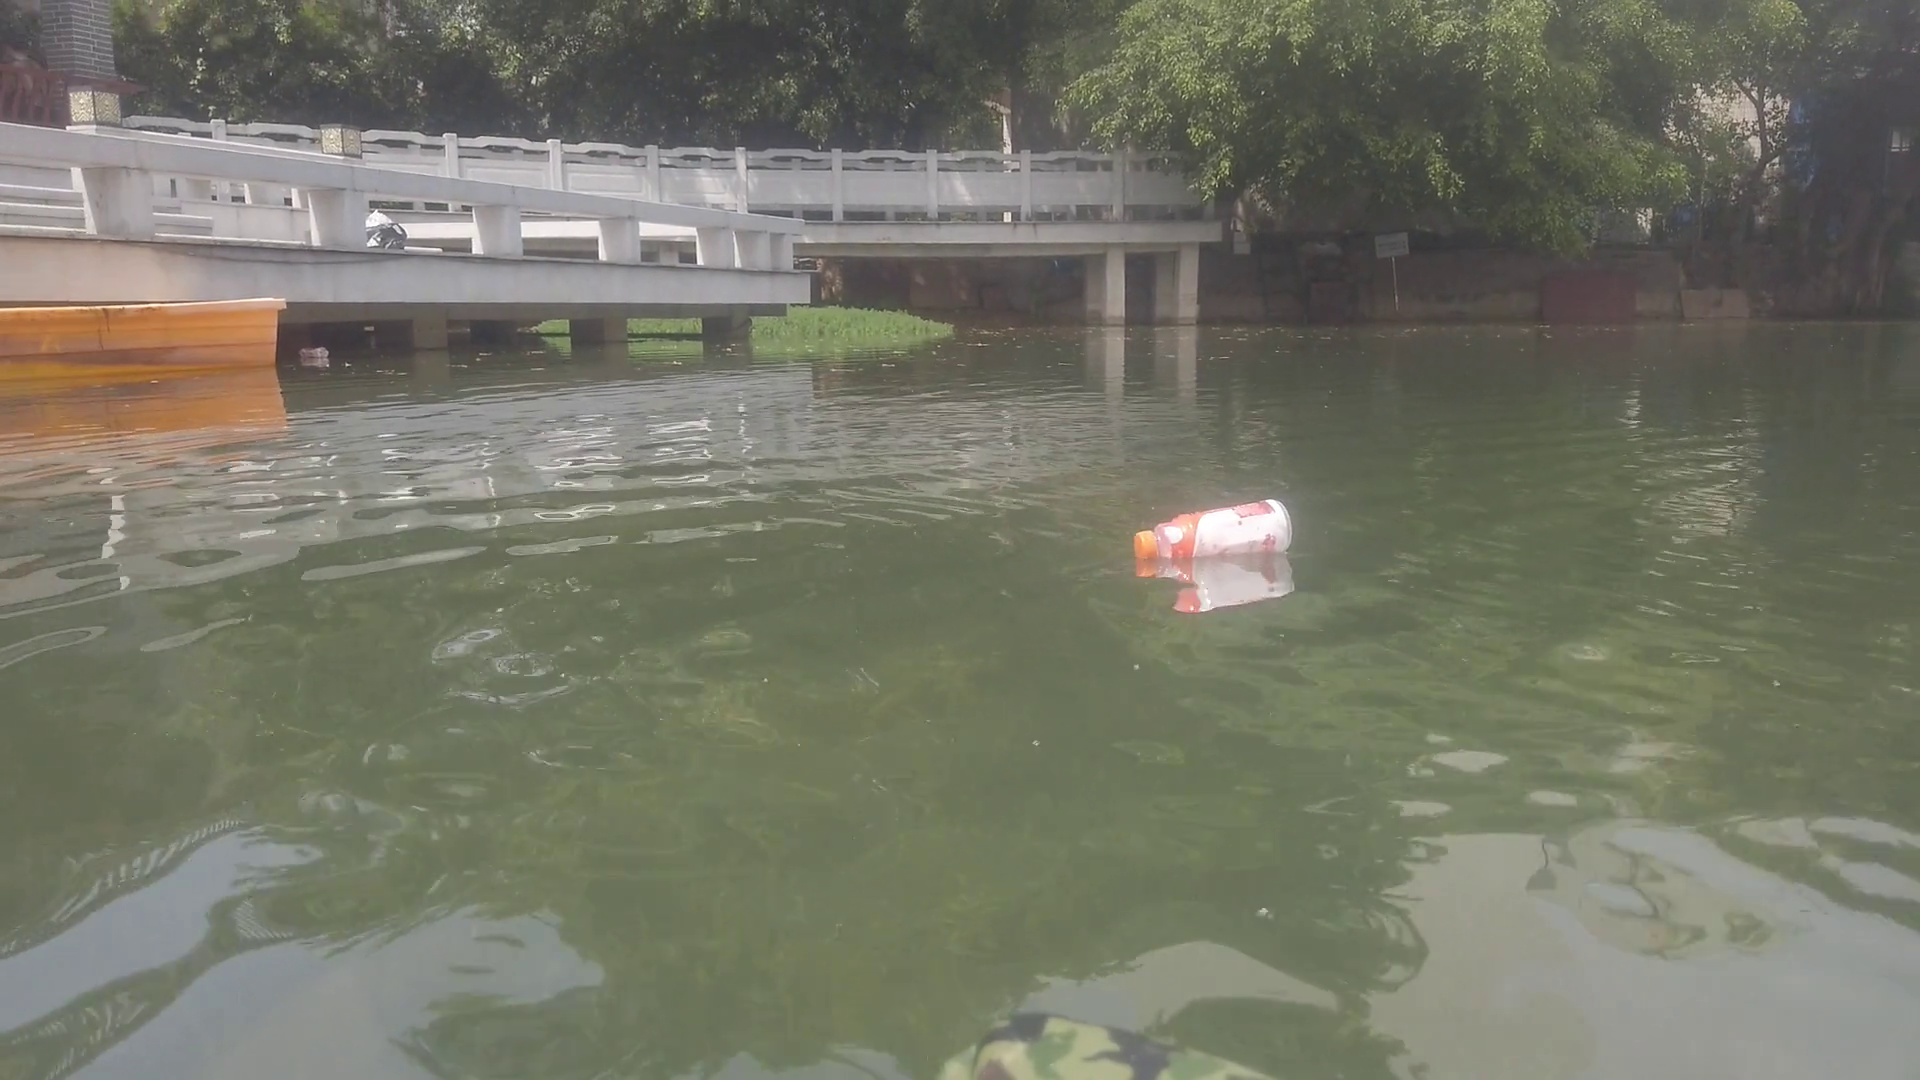bottle: (1135, 498, 1298, 556), (294, 345, 328, 360)
